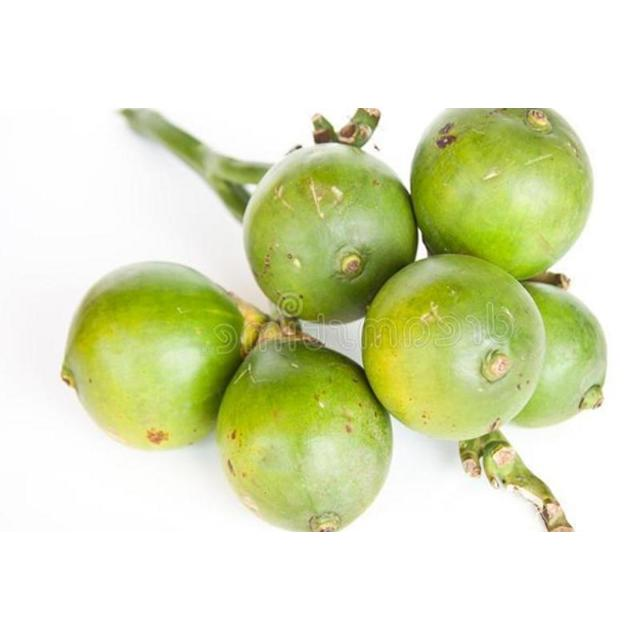good: (361, 254, 605, 478), (61, 262, 253, 454), (215, 338, 394, 532), (241, 142, 421, 326), (411, 108, 595, 282)
